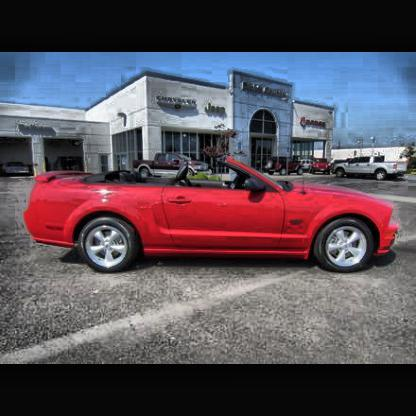Ford Mustang Convertible 2007: (21, 156, 402, 276)
